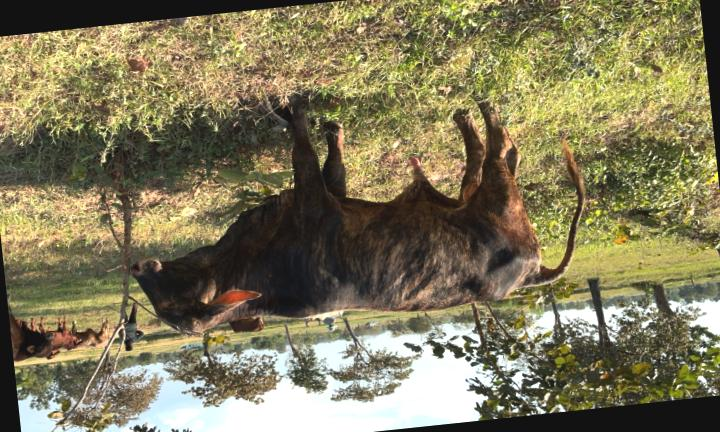Charolais: (132, 102, 584, 331)
